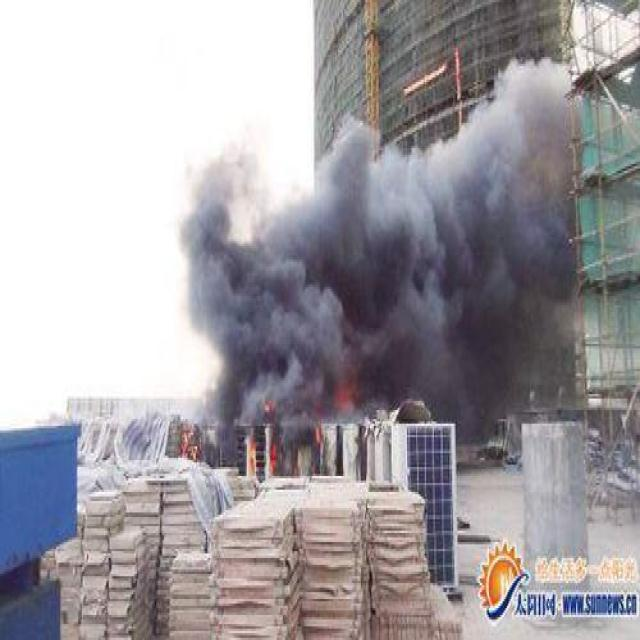fire: (178, 419, 198, 456)
smoke: (179, 52, 571, 417)
